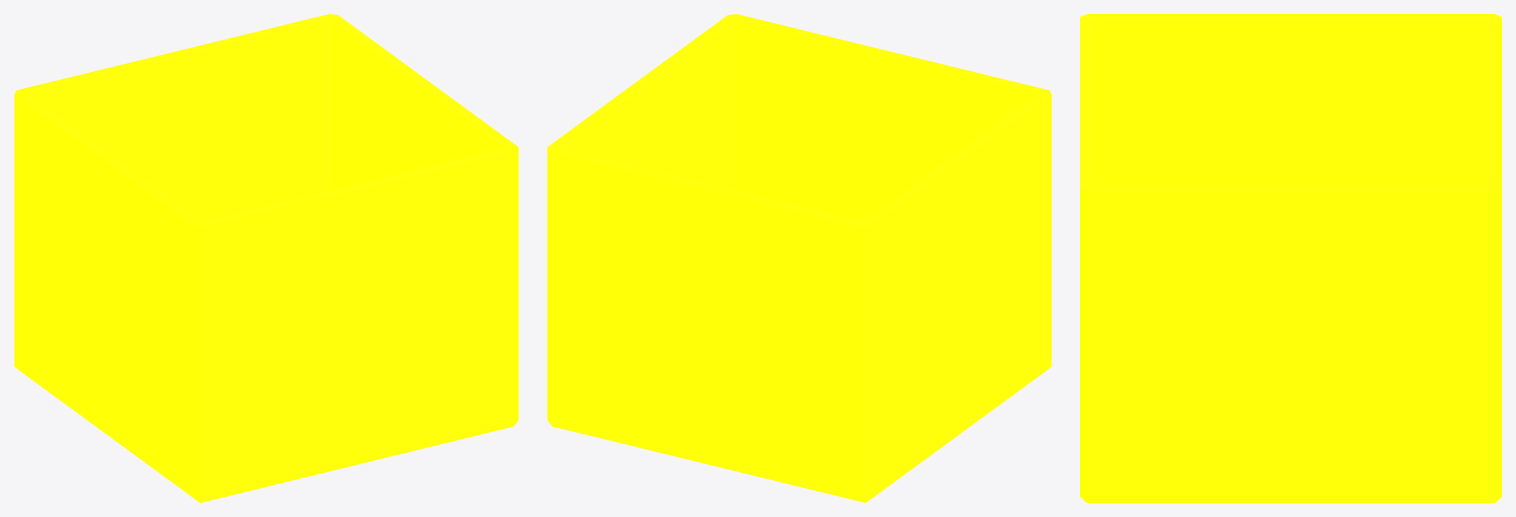
The model's file is gift-christmas-cube-open-base.glb.
3 views of the same model, side by side, from view 1: azimuth 30°, elevation 25°; view 2: azimuth 150°, elevation 25°; view 3: azimuth 270°, elevation 25° (orthographic). The views are drawn at different scales.
Visible parts, largest first — view 1: gift_christmas_cube_open_base; view 2: gift_christmas_cube_open_base; view 3: gift_christmas_cube_open_base.
Boxes of the visible parts, box(x1,y1,x2,y2) form: gift_christmas_cube_open_base: box(14, 14, 518, 502); gift_christmas_cube_open_base: box(547, 14, 1051, 502); gift_christmas_cube_open_base: box(1080, 14, 1501, 502).
Bounding box in the file's own units: 0.3 × 0.2461 × 0.3.
1 material, 1 textured.
